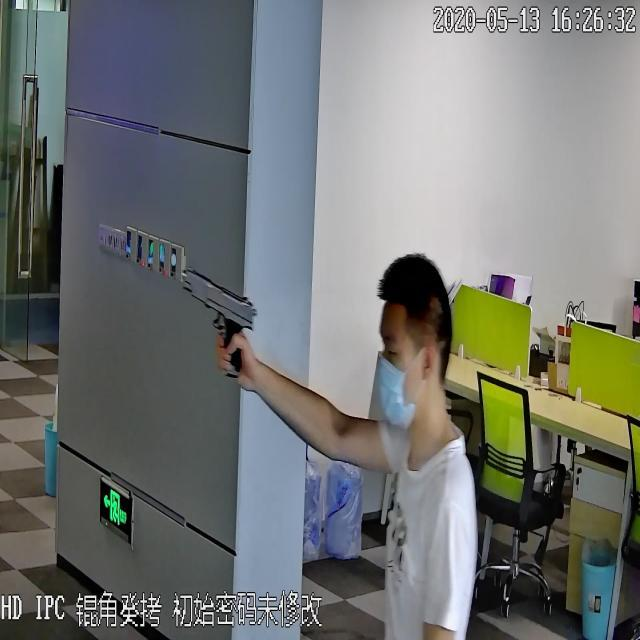gun: (178, 258, 256, 386)
